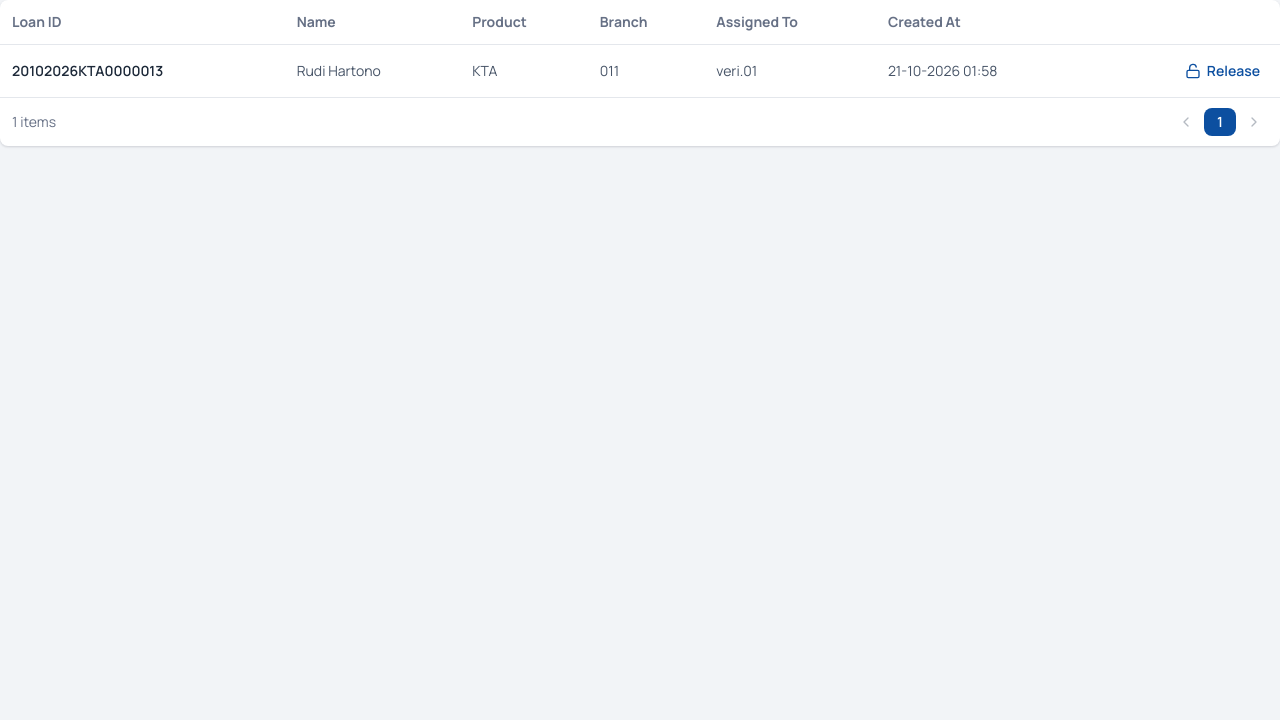
Scenario: TaskQueue › AC-58.05 keeps the task when the Supervisor answers No
The width and height of the screenshot is (1280, 720).
Click the button "Release": (1222, 71) x1=1177 y1=57 x2=1268 y2=85
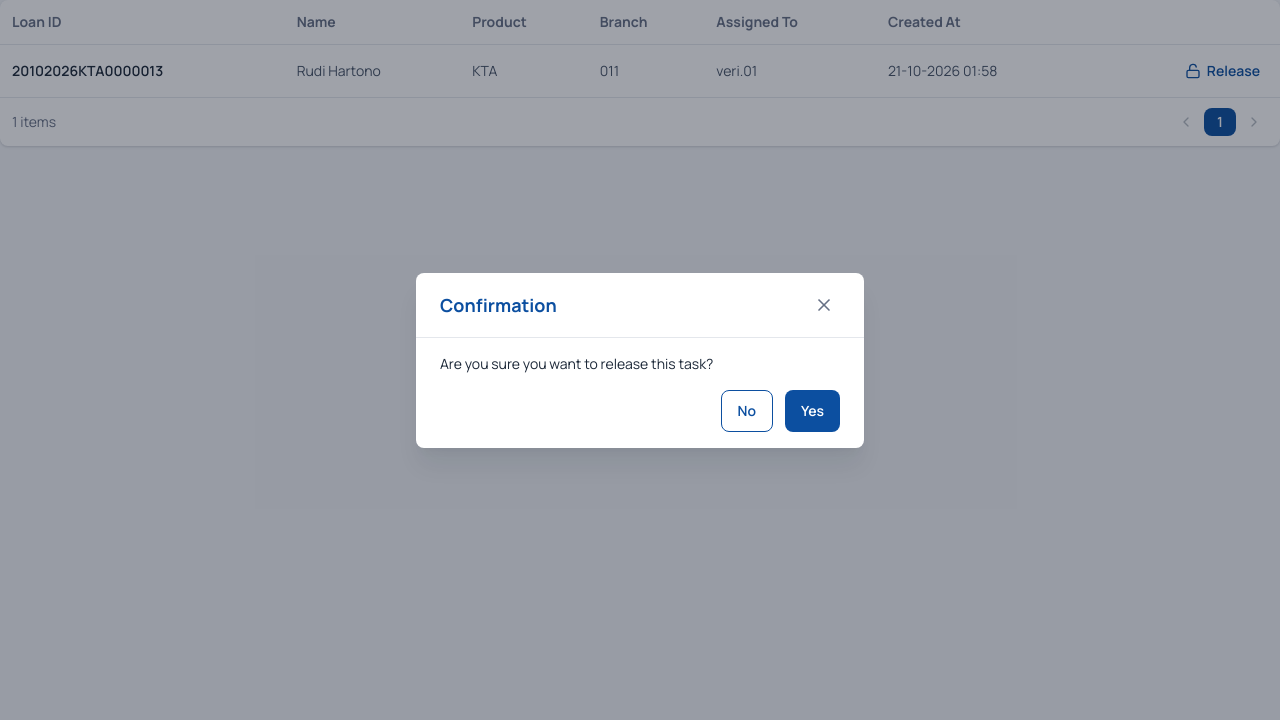
Click the button "No": (747, 410) x1=720 y1=390 x2=773 y2=432
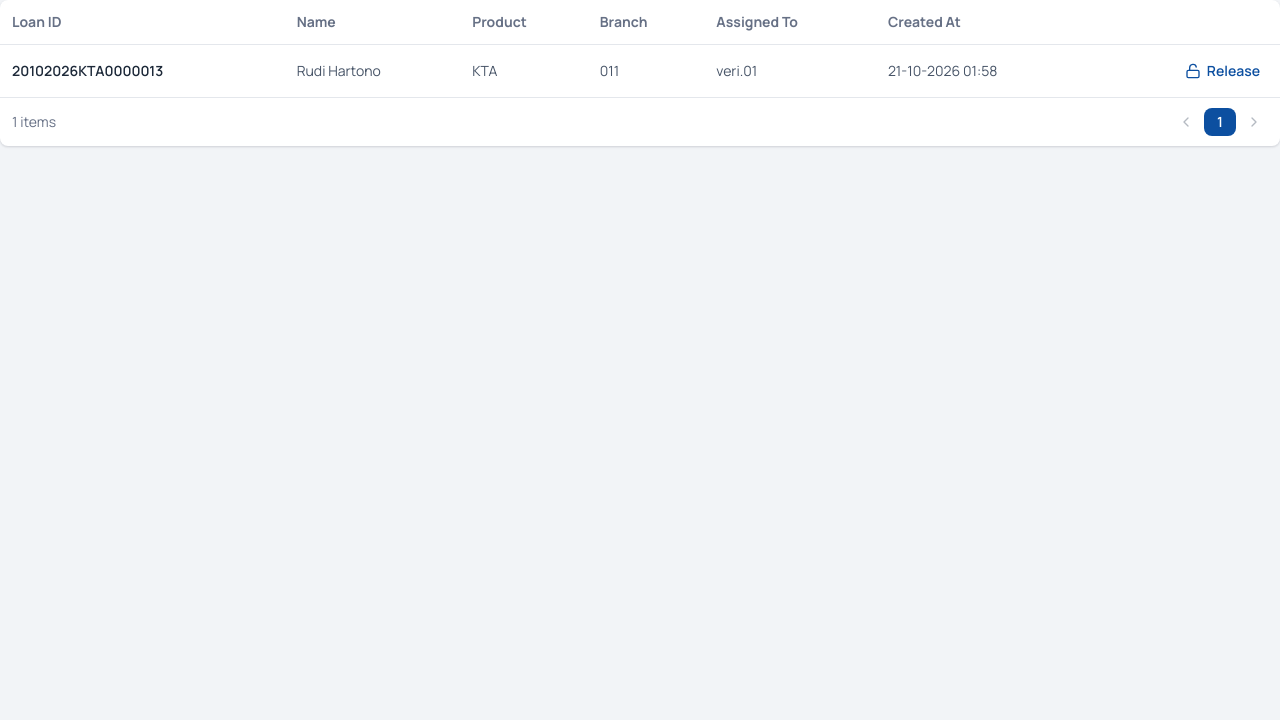
Check: the dialog is gone
